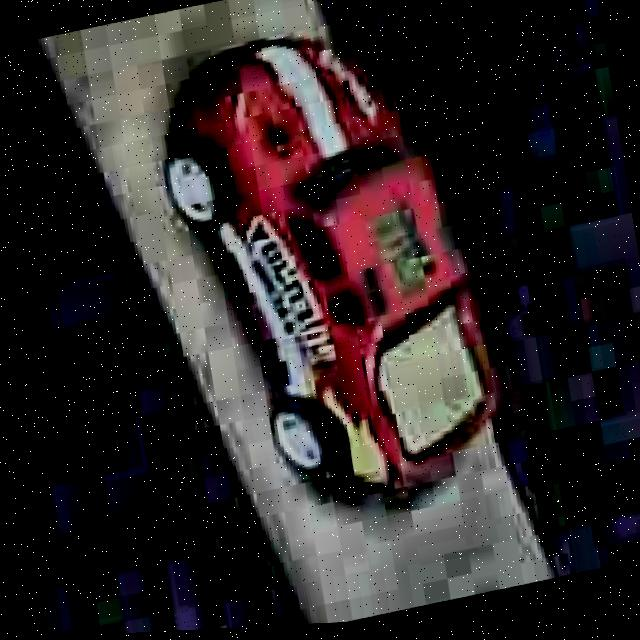car: (141, 0, 518, 541)
